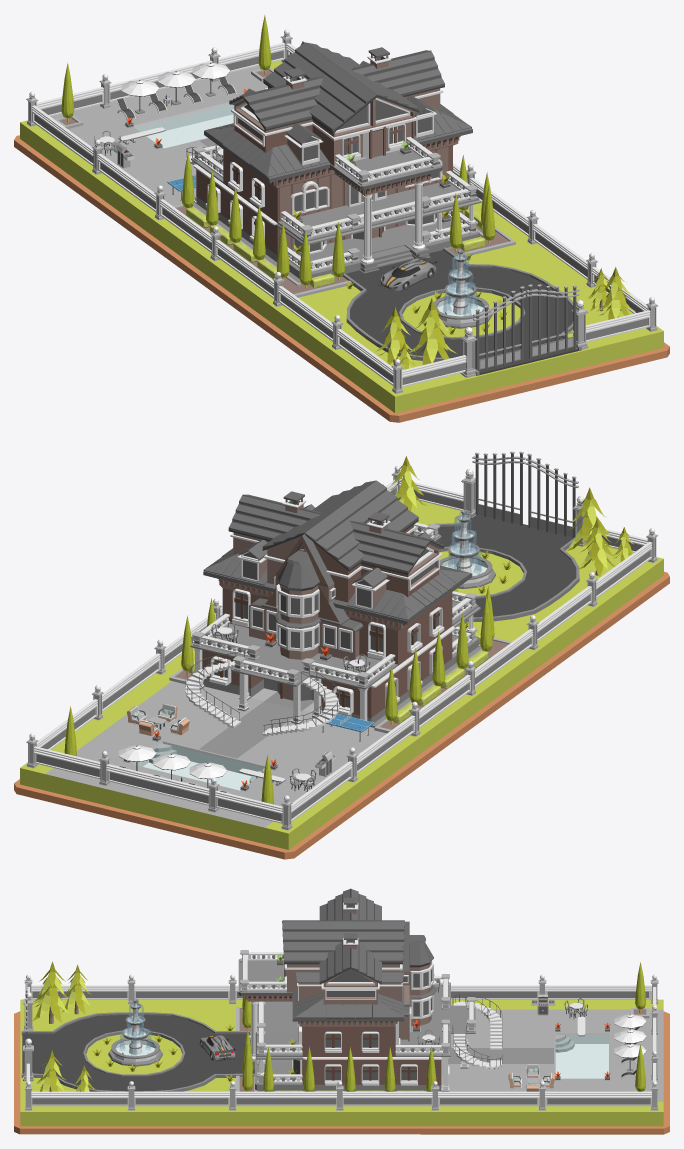
File: mansion.fbx
3 views of the same model, one above another, from view 1: azimuth 30°, elevation 25°; view 2: azimuth 150°, elevation 25°; view 3: azimuth 270°, elevation 25° (orthographic). The views are drawn at different scales.
Parts seen in each view (by area): view 1: Object_11, Object_8, Object_12, Object_7, Object_9, Object_5, Object_3, Object_4, Object_6; view 2: Object_11, Object_8, Object_12, Object_7, Object_9, Object_10, Object_5, Object_13, Object_4, Object_6; view 3: Object_11, Object_8, Object_7, Object_9, Object_6, Object_4, Object_3, Object_10, Object_13.
Part boxes in pixels (bbox=[...]): Object_11: bbox=[14, 29, 669, 422]; Object_8: bbox=[54, 15, 515, 328]; Object_12: bbox=[163, 94, 579, 370]; Object_7: bbox=[113, 143, 635, 370]; Object_9: bbox=[116, 62, 236, 119]; Object_5: bbox=[186, 207, 484, 287]; Object_3: bbox=[378, 254, 437, 292]; Object_4: bbox=[443, 249, 477, 315]; Object_6: bbox=[124, 88, 507, 334]; Object_11: bbox=[14, 466, 669, 859]; Object_8: bbox=[64, 510, 511, 804]; Object_12: bbox=[176, 451, 578, 781]; Object_7: bbox=[315, 456, 633, 776]; Object_9: bbox=[111, 745, 230, 793]; Object_10: bbox=[127, 703, 189, 736]; Object_5: bbox=[185, 632, 488, 723]; Object_13: bbox=[211, 622, 370, 791]; Object_4: bbox=[448, 509, 481, 573]; Object_6: bbox=[123, 550, 510, 791]; Object_11: bbox=[14, 888, 669, 1134]; Object_8: bbox=[108, 962, 649, 1091]; Object_7: bbox=[32, 961, 555, 1091]; Object_9: bbox=[614, 1014, 646, 1079]; Object_6: bbox=[92, 953, 610, 1081]; Object_4: bbox=[119, 998, 151, 1055]; Object_3: bbox=[198, 1035, 235, 1061]; Object_10: bbox=[508, 1064, 554, 1091]; Object_13: bbox=[417, 979, 587, 1048].
Bounding box in the file's own units: 4181 × 2627 × 9886.
3 materials, 1 textured.
